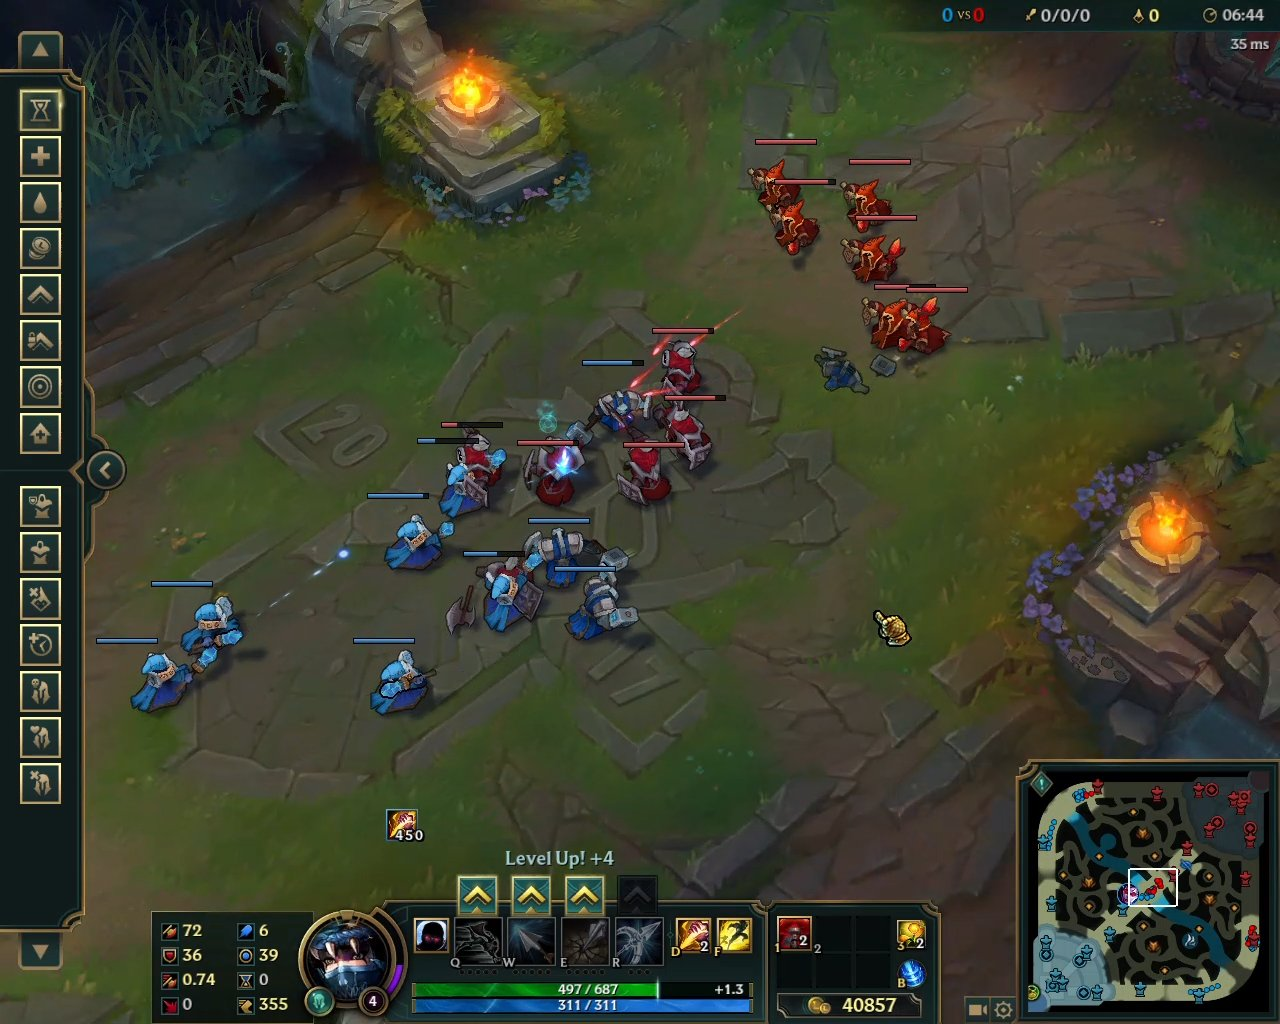EnemyMinion: (757, 178, 834, 262), (835, 214, 917, 287), (855, 278, 934, 352), (651, 394, 728, 469), (838, 160, 911, 235), (648, 326, 716, 406), (745, 136, 819, 207), (516, 438, 585, 512), (613, 440, 684, 510), (903, 286, 971, 354), (443, 420, 506, 488)
